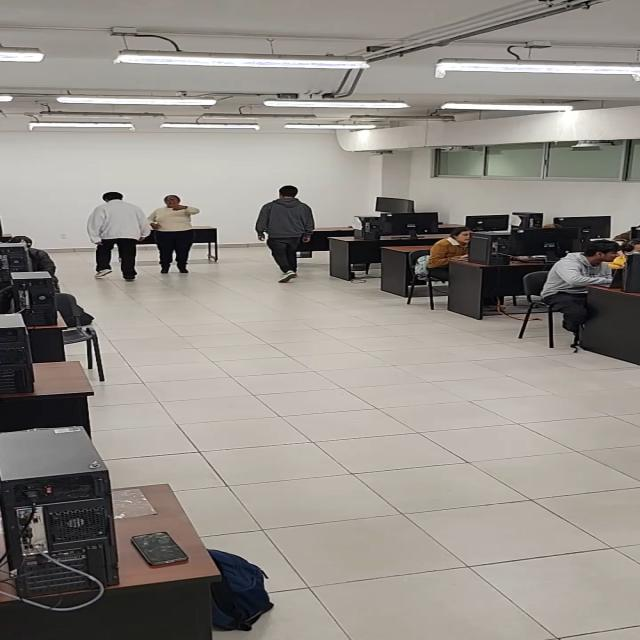Persona: (251, 182, 320, 285), (84, 189, 146, 284), (151, 192, 201, 275)
